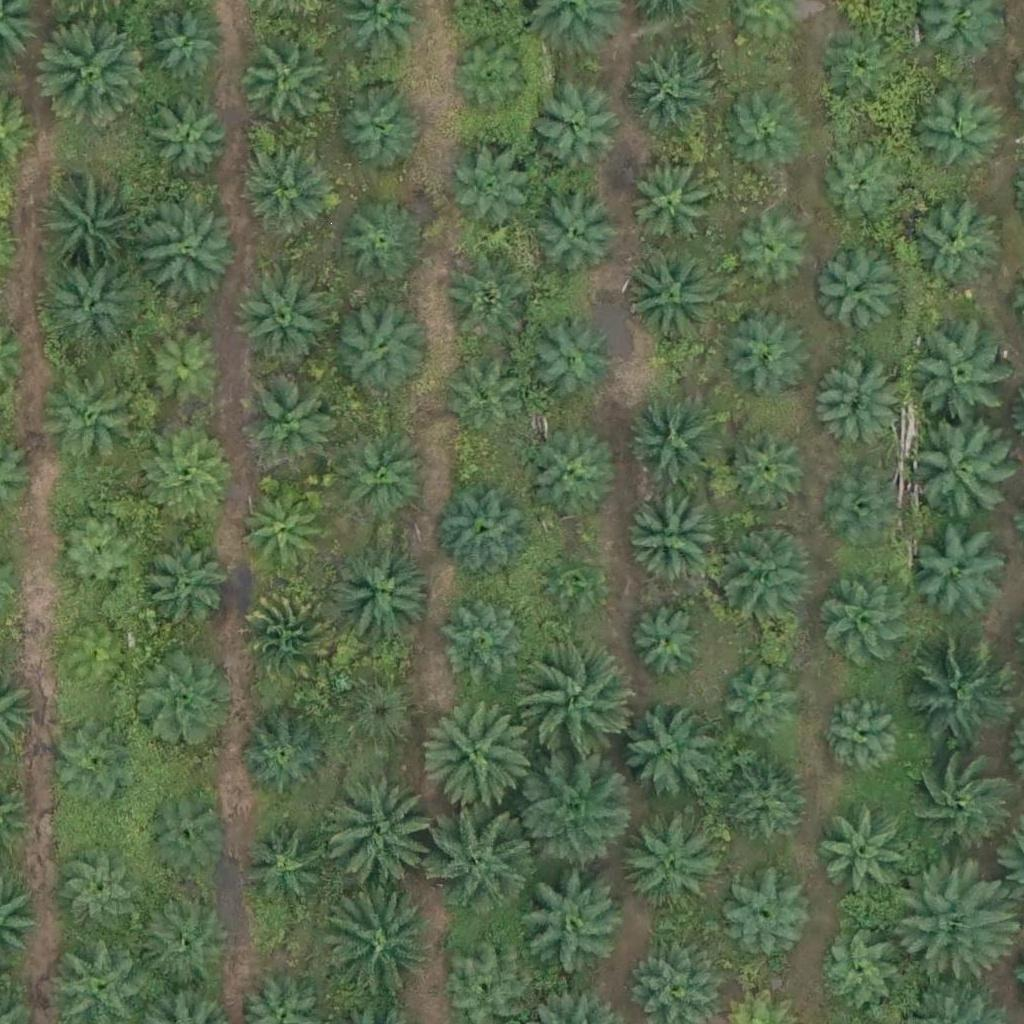Kelapa_Sawit: (321, 779, 434, 893), (904, 417, 1017, 531), (516, 756, 629, 869), (517, 866, 630, 979), (427, 802, 540, 915), (423, 698, 536, 811), (317, 893, 430, 1006), (904, 641, 1016, 755), (523, 646, 635, 760), (896, 861, 1008, 974), (900, 748, 1012, 861), (34, 12, 146, 125), (916, 522, 1016, 623), (815, 806, 915, 907), (710, 522, 810, 623), (619, 810, 719, 911), (437, 482, 537, 583), (329, 539, 429, 640), (46, 259, 146, 360), (42, 373, 142, 474), (139, 420, 239, 521), (142, 196, 242, 297), (238, 368, 338, 469), (241, 142, 341, 243), (331, 291, 431, 392), (329, 424, 429, 525), (623, 250, 723, 351), (626, 390, 726, 491), (901, 200, 1001, 301), (916, 325, 1016, 426), (624, 489, 724, 589), (618, 705, 718, 805), (133, 651, 233, 751), (242, 586, 342, 686), (233, 270, 333, 370), (817, 692, 905, 781), (825, 582, 913, 670), (719, 655, 807, 743), (331, 672, 419, 760), (143, 788, 231, 876), (236, 818, 324, 906), (440, 603, 528, 691), (236, 488, 324, 576), (241, 711, 329, 799), (57, 850, 145, 938), (336, 82, 424, 170), (337, 202, 425, 290), (451, 146, 539, 234), (444, 260, 532, 348), (529, 89, 617, 177), (533, 190, 621, 278), (525, 319, 613, 407), (627, 49, 715, 137), (823, 28, 911, 116), (910, 88, 998, 176), (54, 509, 142, 597), (143, 97, 230, 186), (722, 760, 809, 848), (817, 930, 904, 1018), (719, 871, 806, 959), (136, 539, 223, 627), (142, 897, 229, 985), (50, 721, 137, 809), (45, 195, 132, 283), (46, 622, 133, 710), (144, 319, 231, 407), (147, 2, 234, 90), (241, 40, 328, 128), (442, 355, 529, 443), (445, 37, 532, 125), (532, 435, 619, 523), (630, 163, 717, 251), (725, 427, 812, 515), (725, 309, 812, 397), (732, 205, 819, 293), (720, 82, 807, 170), (819, 145, 906, 233), (818, 254, 905, 342), (815, 362, 902, 450), (629, 605, 704, 681), (829, 472, 904, 548), (540, 549, 602, 612)
